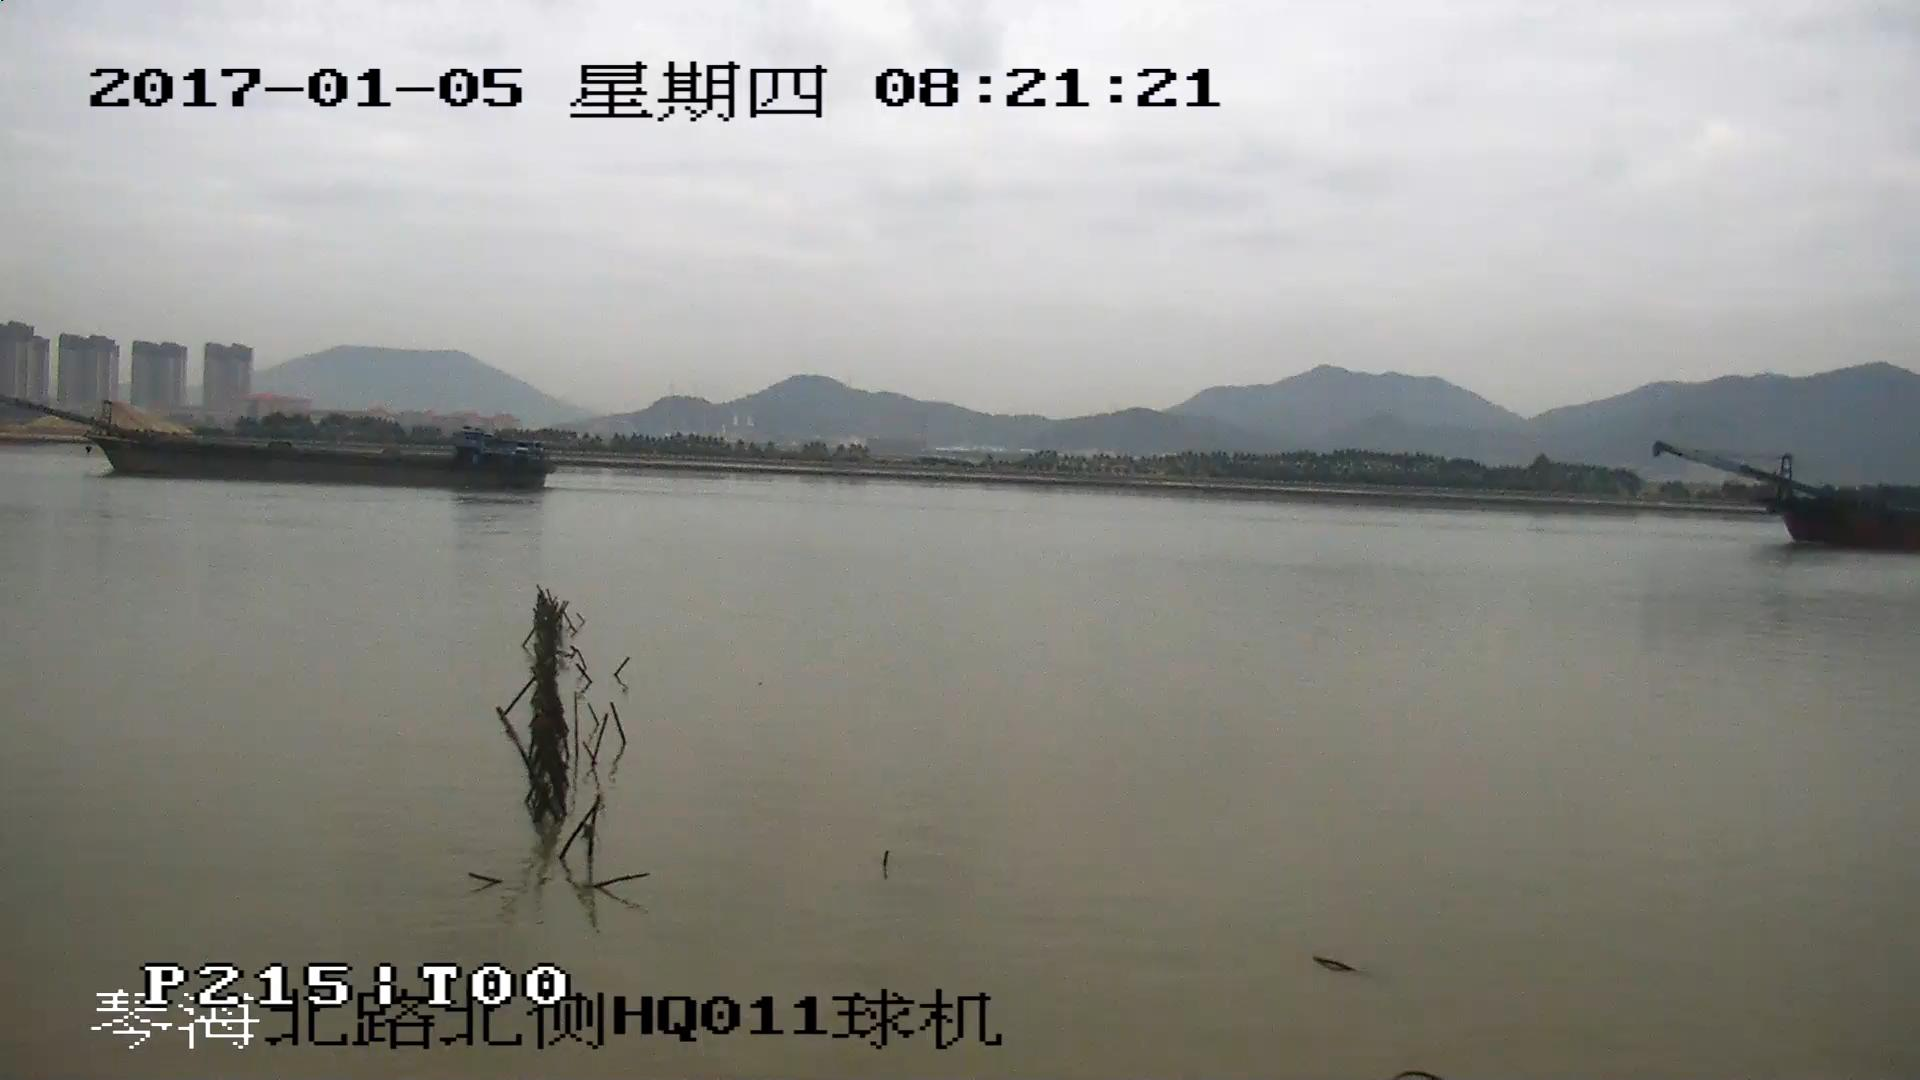bulk cargo carrier: (1, 398, 551, 491), (1660, 446, 1920, 546)
